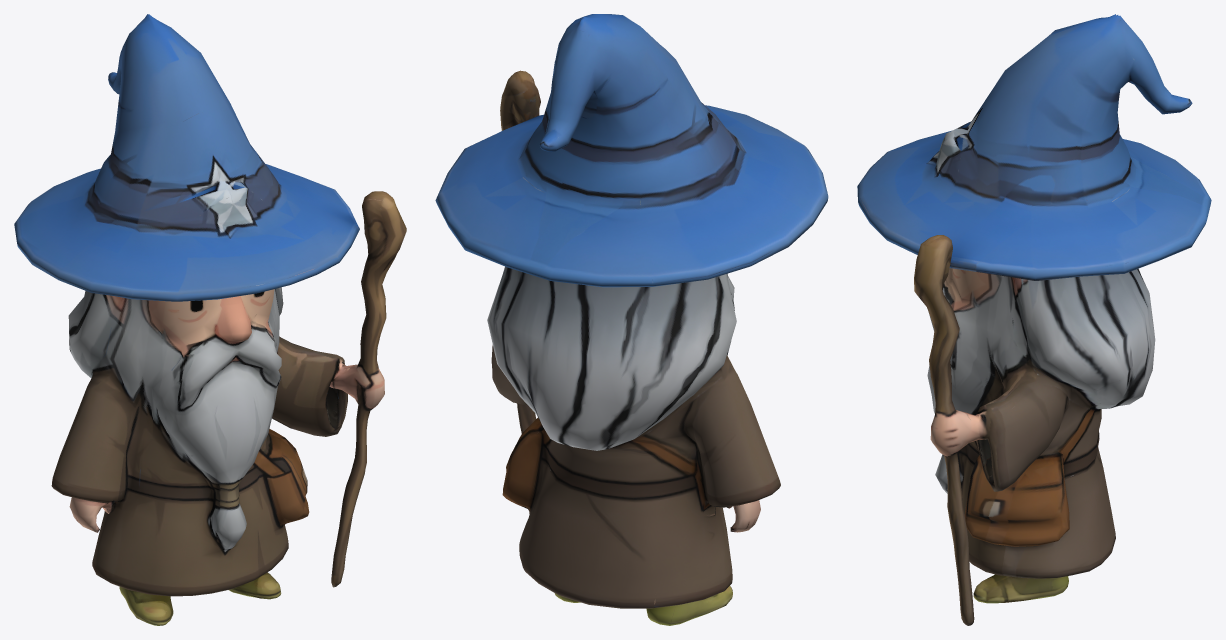
The model's file is npc_skillmaster.glb.
3 renders of one model, left to right at view 1: azimuth 30°, elevation 25°; view 2: azimuth 150°, elevation 25°; view 3: azimuth 270°, elevation 25°, orthographic. The views are drawn at different scales.
Bounding box in the file's own units: 1.14 × 1.91 × 1.1.
Materials: 1 (1 with a texture image).
